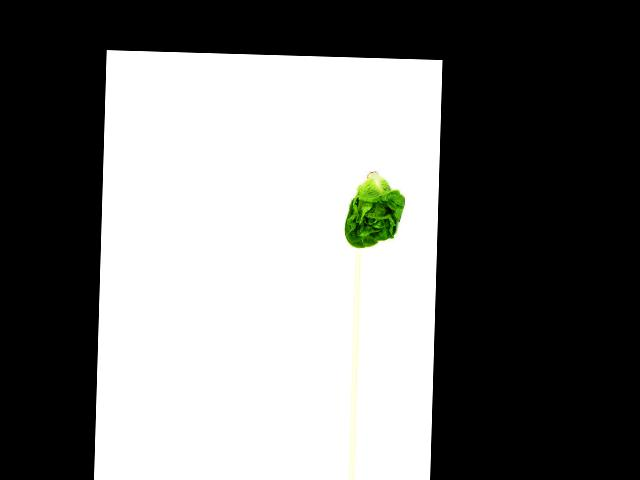lettuce: (342, 168, 409, 249)
